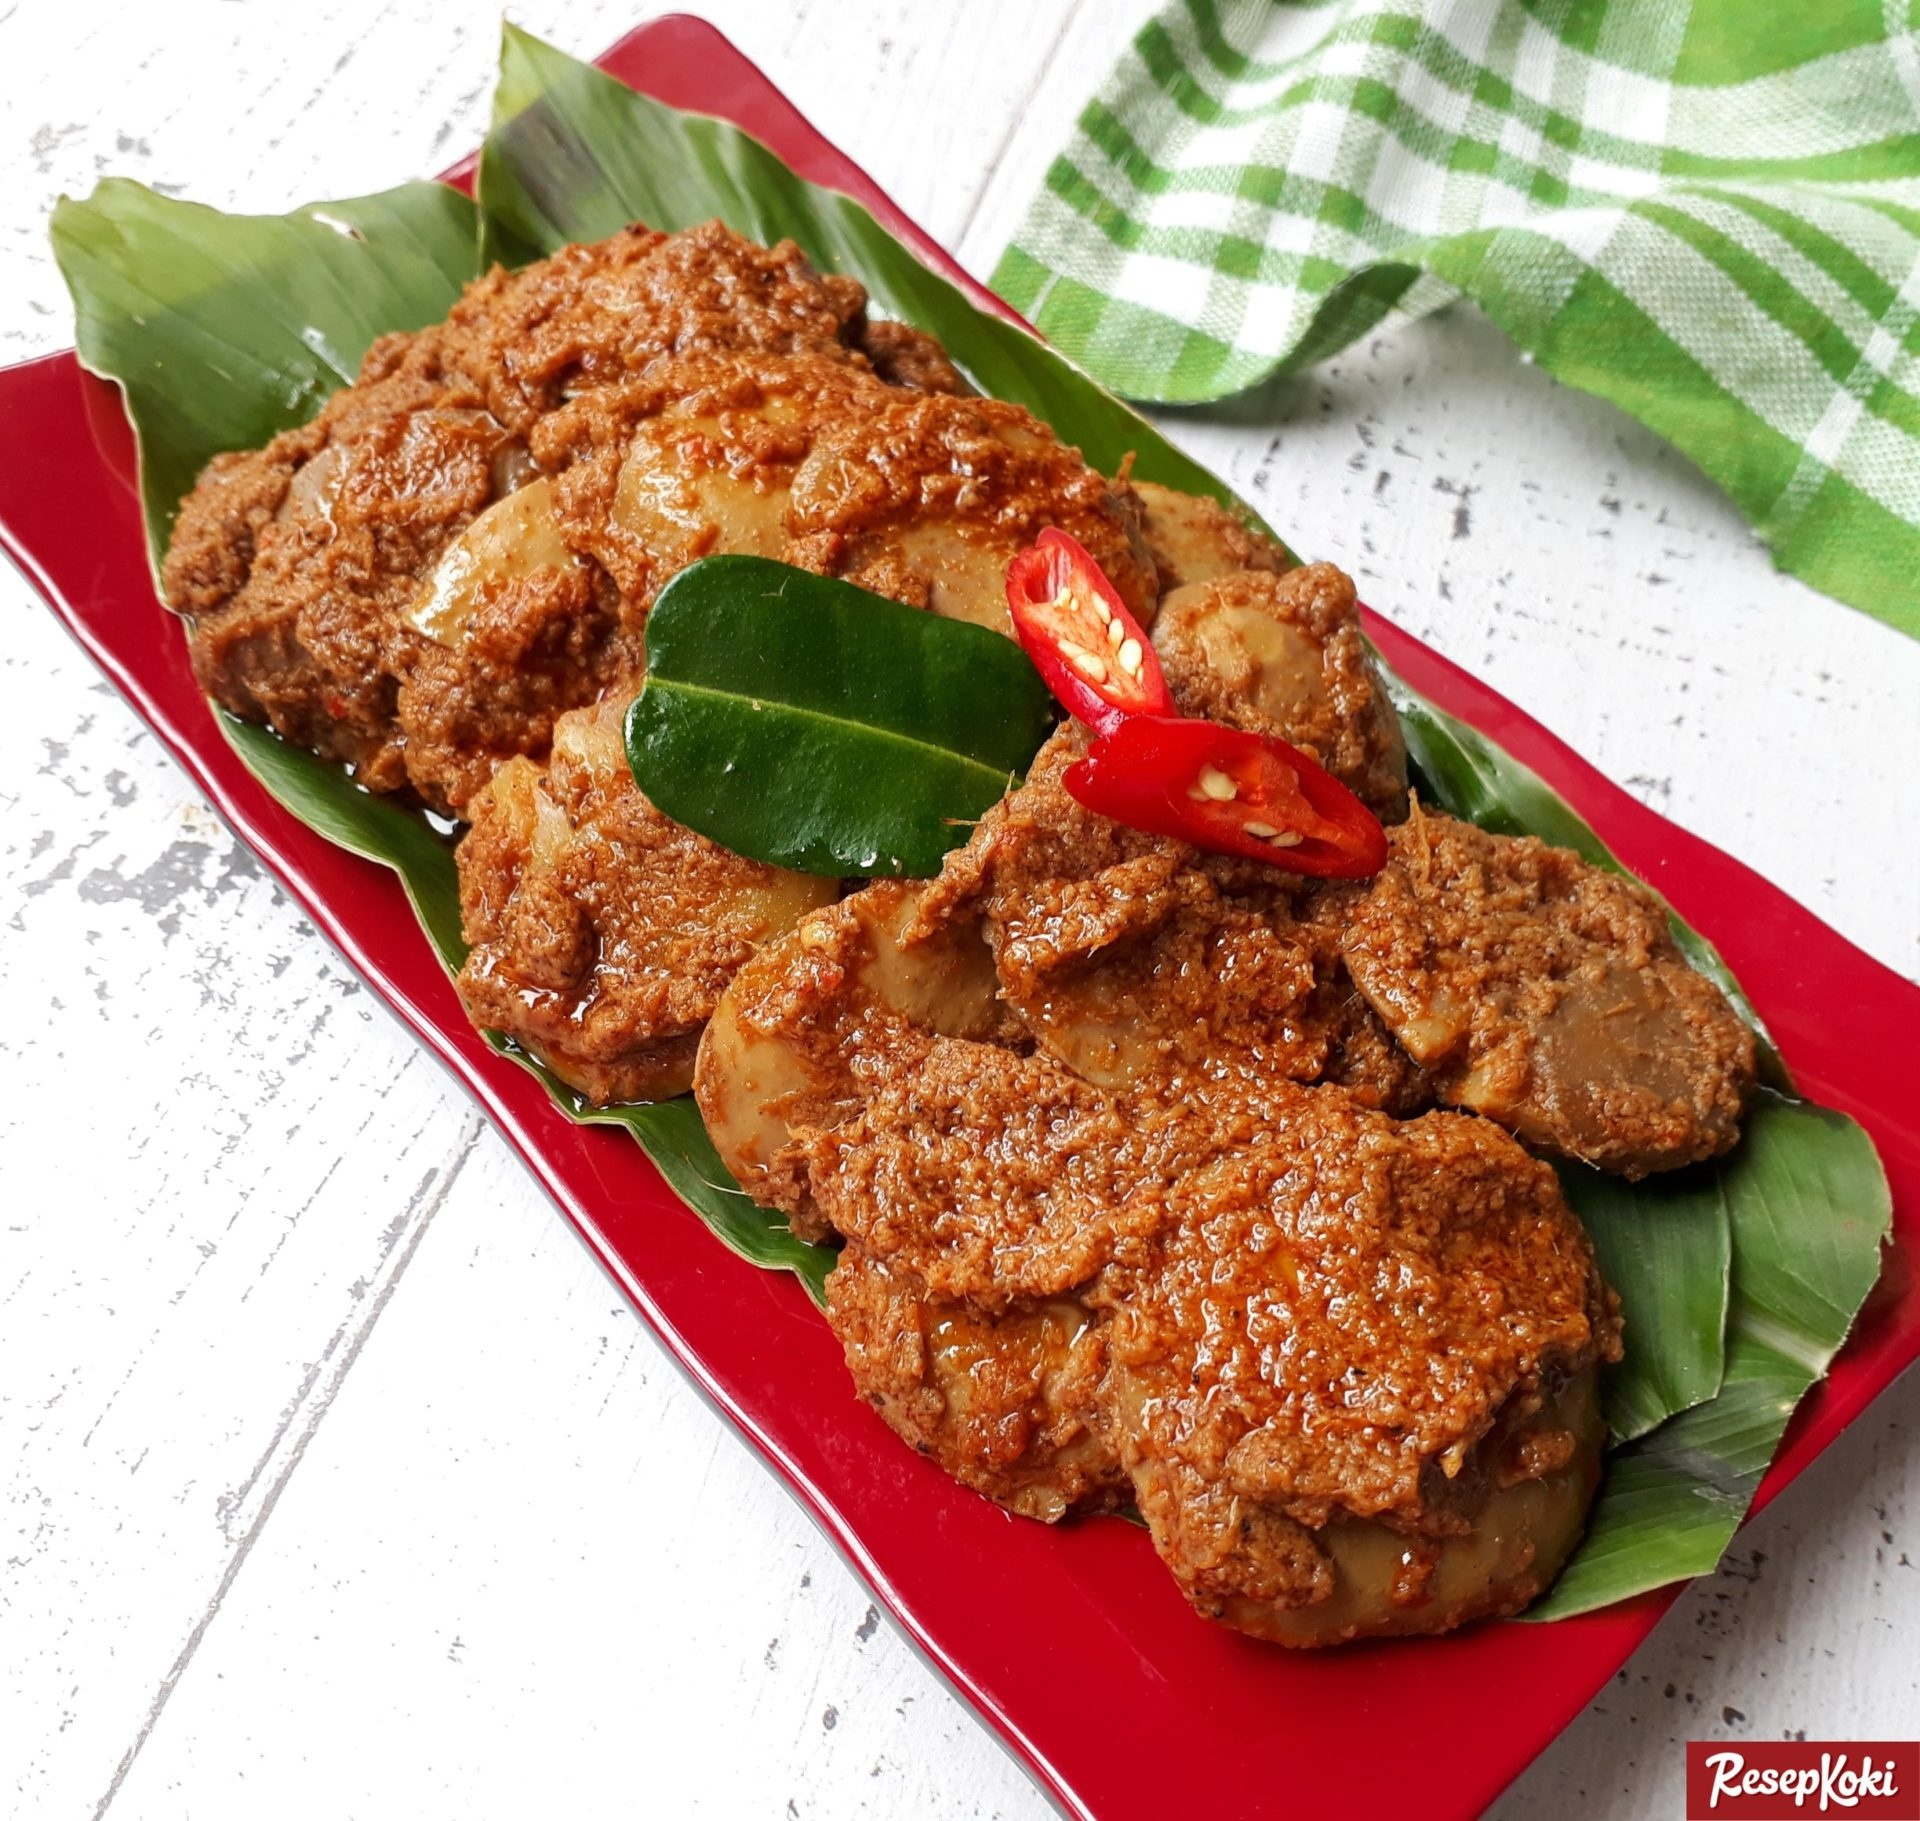rendang: (163, 229, 1754, 1655)
